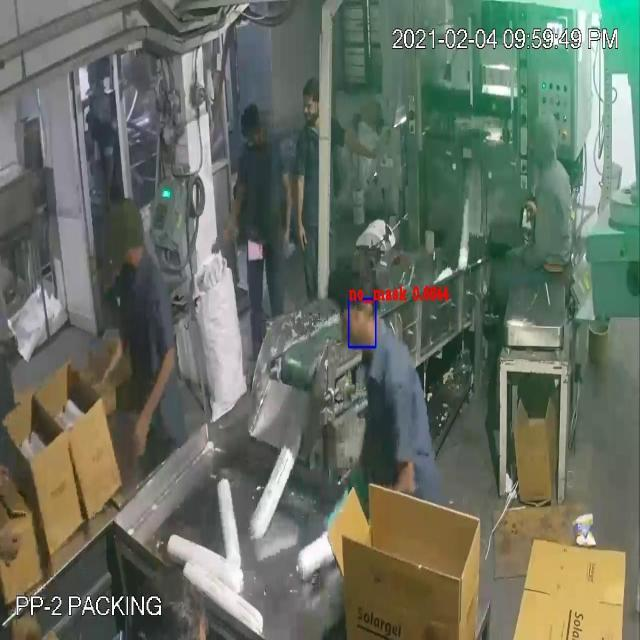No_Gloves: (14, 54, 359, 544)
